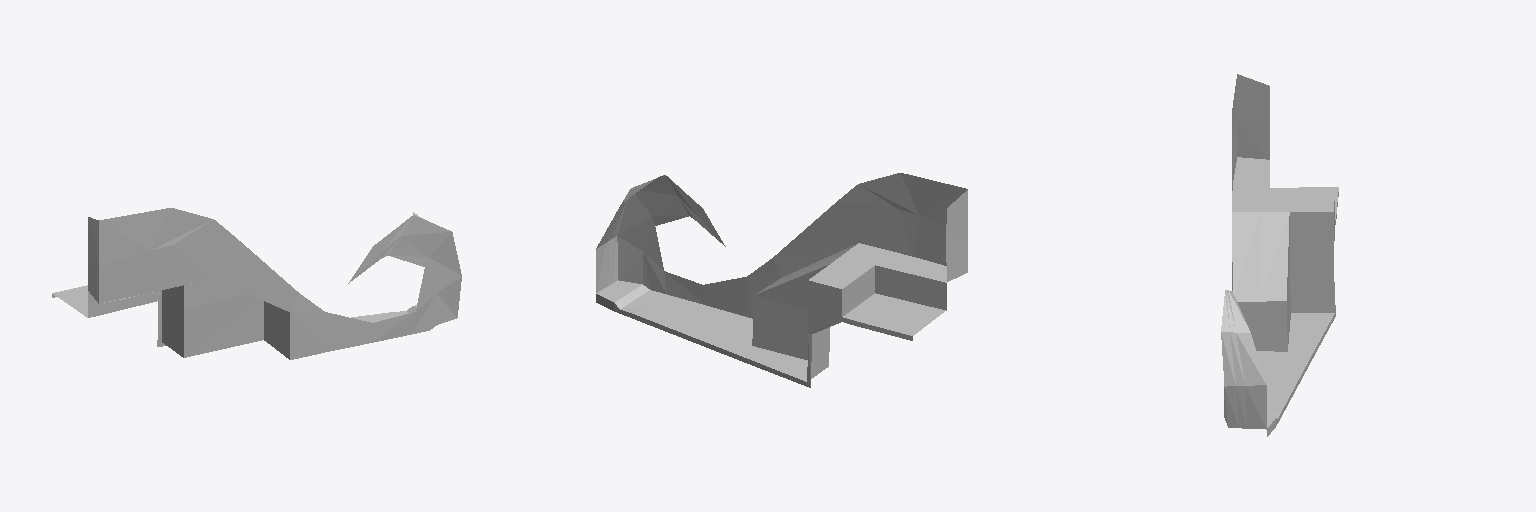
File: salamadera.obj
The picture shows the model from 3 angles: view 1: azimuth 30°, elevation 25°; view 2: azimuth 150°, elevation 25°; view 3: azimuth 270°, elevation 25°; orthographic projection.
Visible parts, largest first — view 1: Plane001; view 2: Plane001; view 3: Plane001.
Boxes of the visible parts, x1,y1,x2,y2 form: Plane001: [52, 208, 461, 359]; Plane001: [596, 173, 967, 387]; Plane001: [1221, 74, 1338, 436].
Bounding box in the file's own units: 4945 × 2506 × 1414.